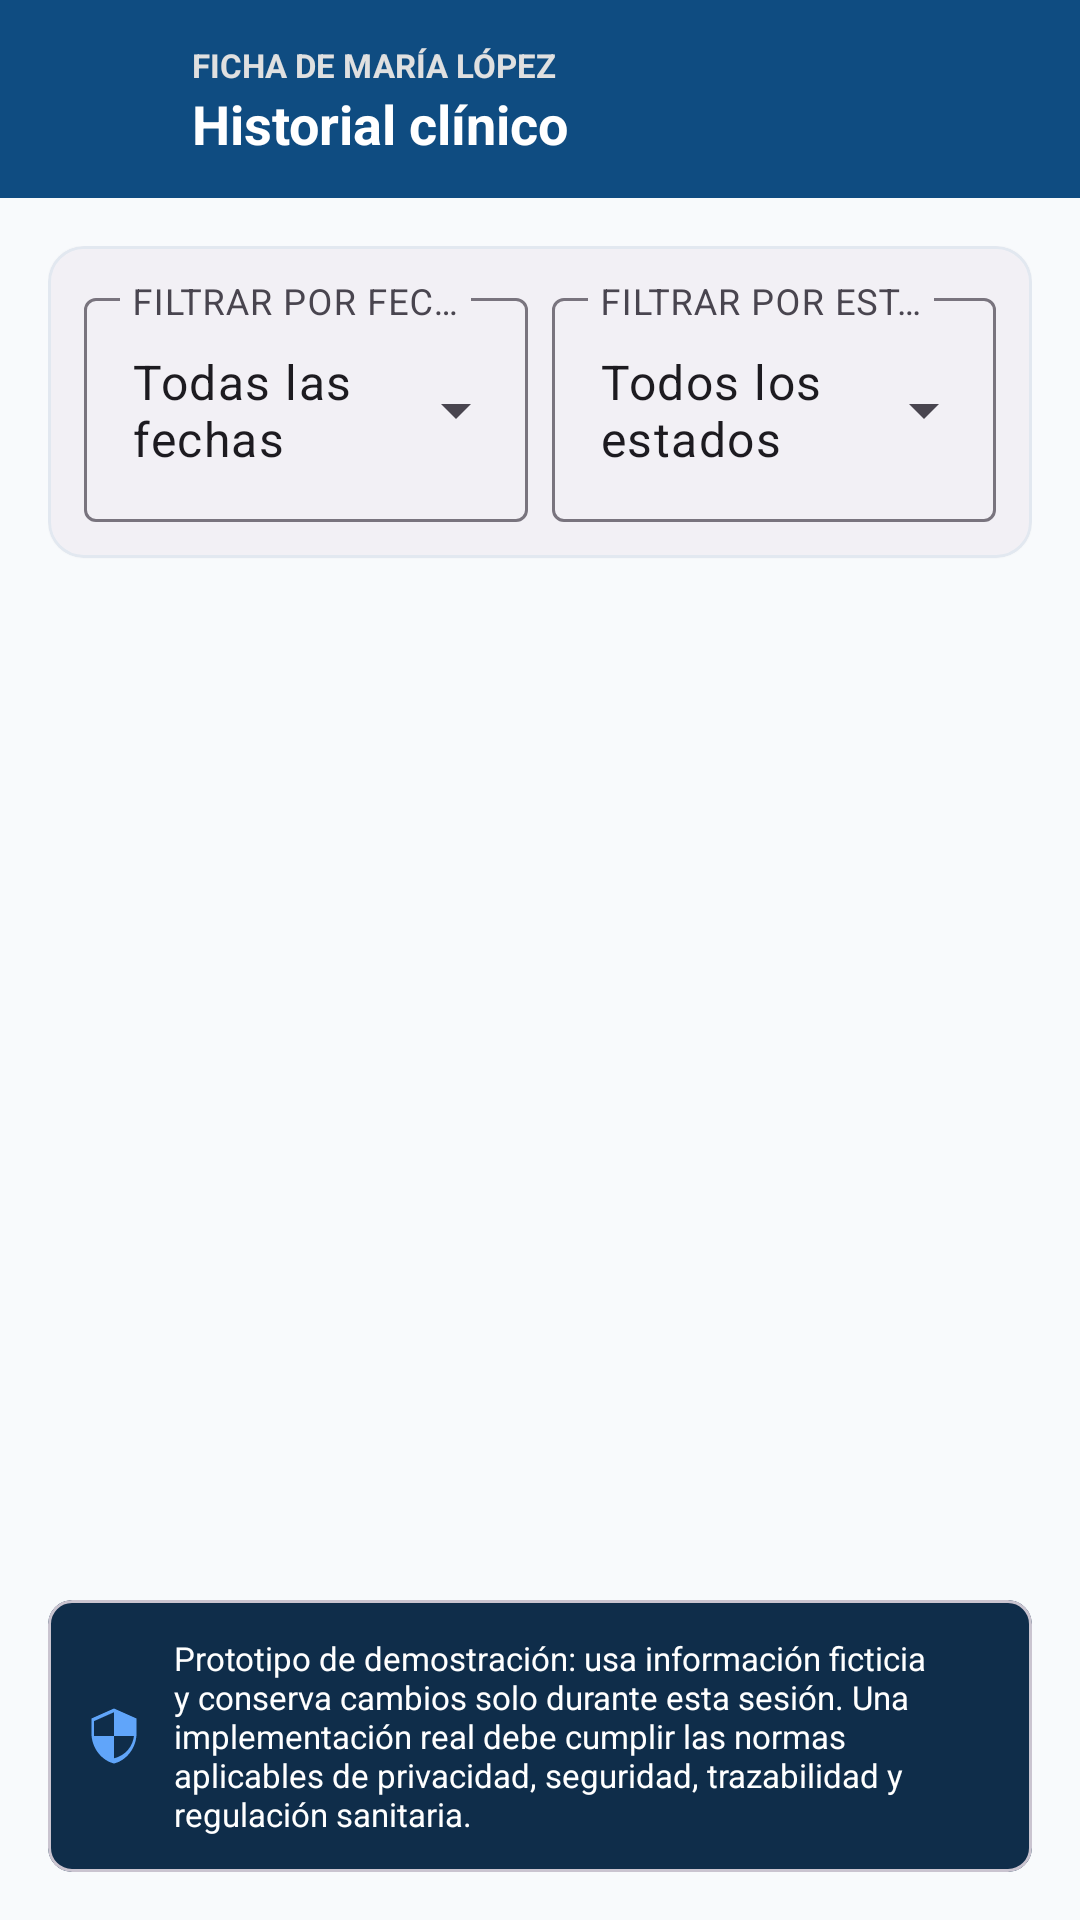

Where to tap for icons on this 1080x1920 app screen, as (x=x, y=y):
cat security: (x=114, y=1736)
